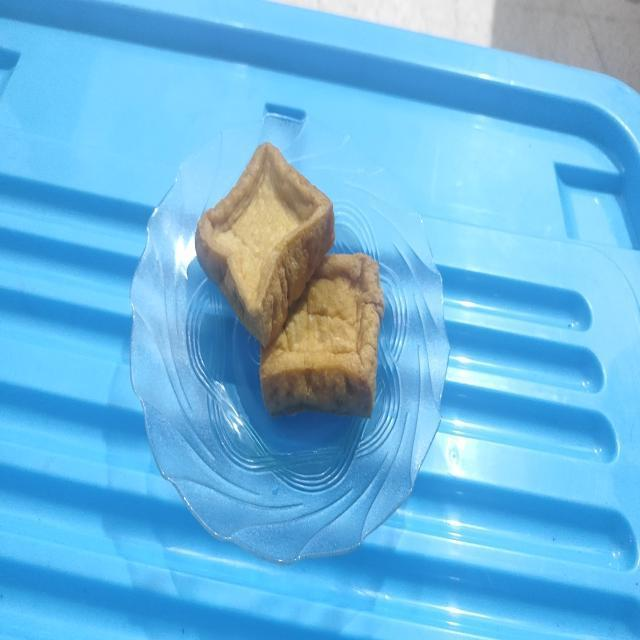tahu_goreng: (196, 142, 334, 348), (260, 253, 384, 417)
